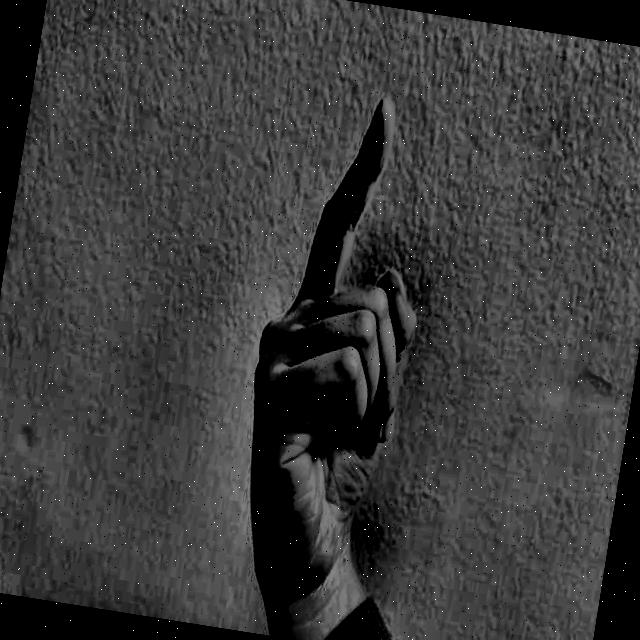U: (199, 48, 473, 614)
